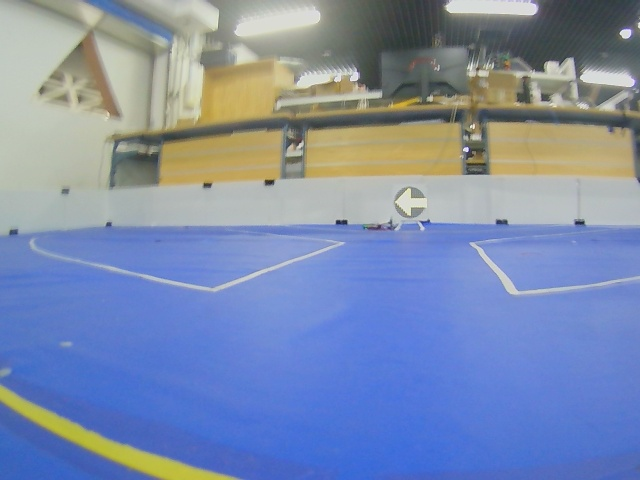left_yellow: (394, 187, 428, 218)
